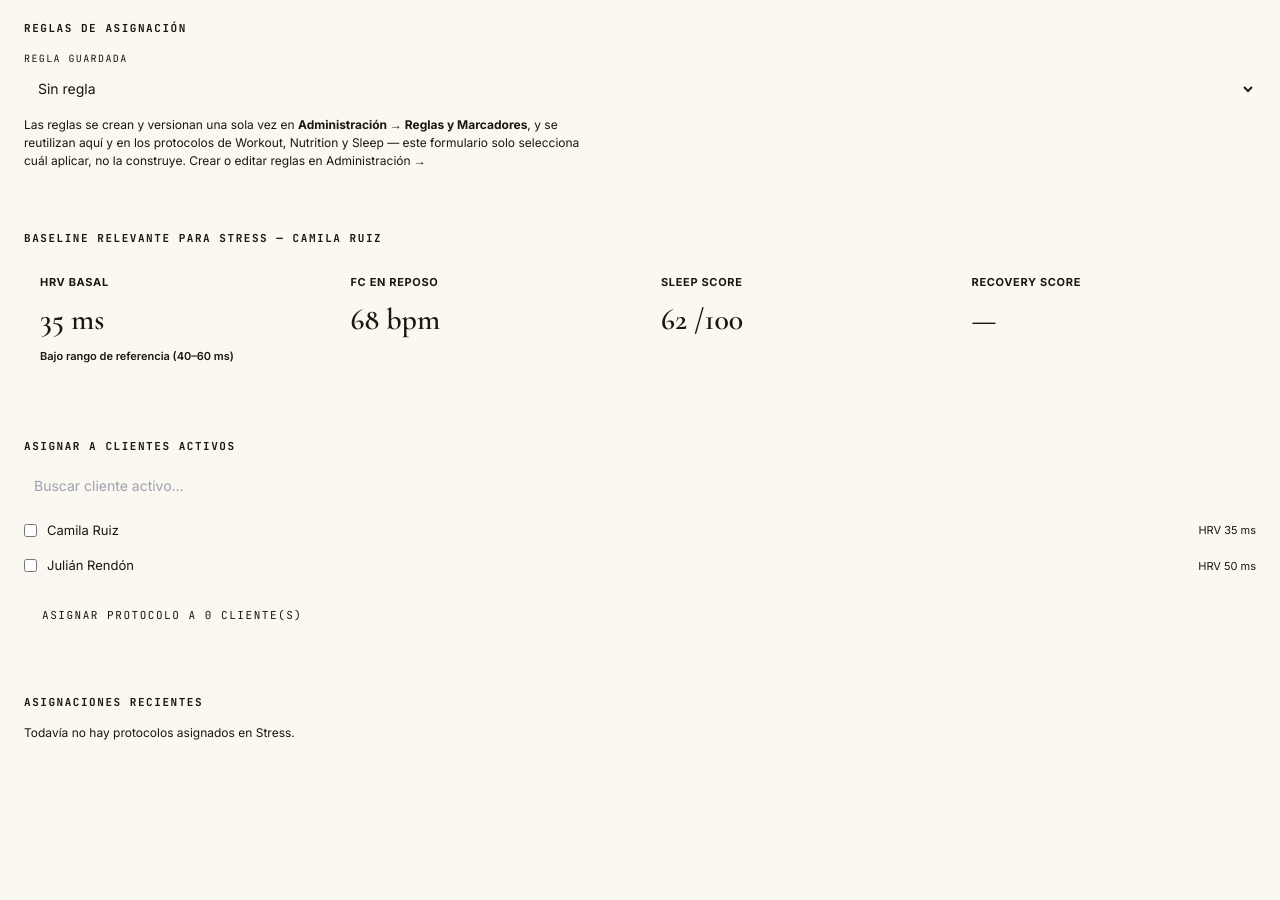
it: AdminStressProtocolCriteriaAndAssignment (Fase 4) › assigns the protocol to the checked clients, creating one labeled case per client
Click the checkbox labelled "Camila Ruiz HRV 35 ms".
click(30, 530)  # box x1=24 y1=524 x2=37 y2=537
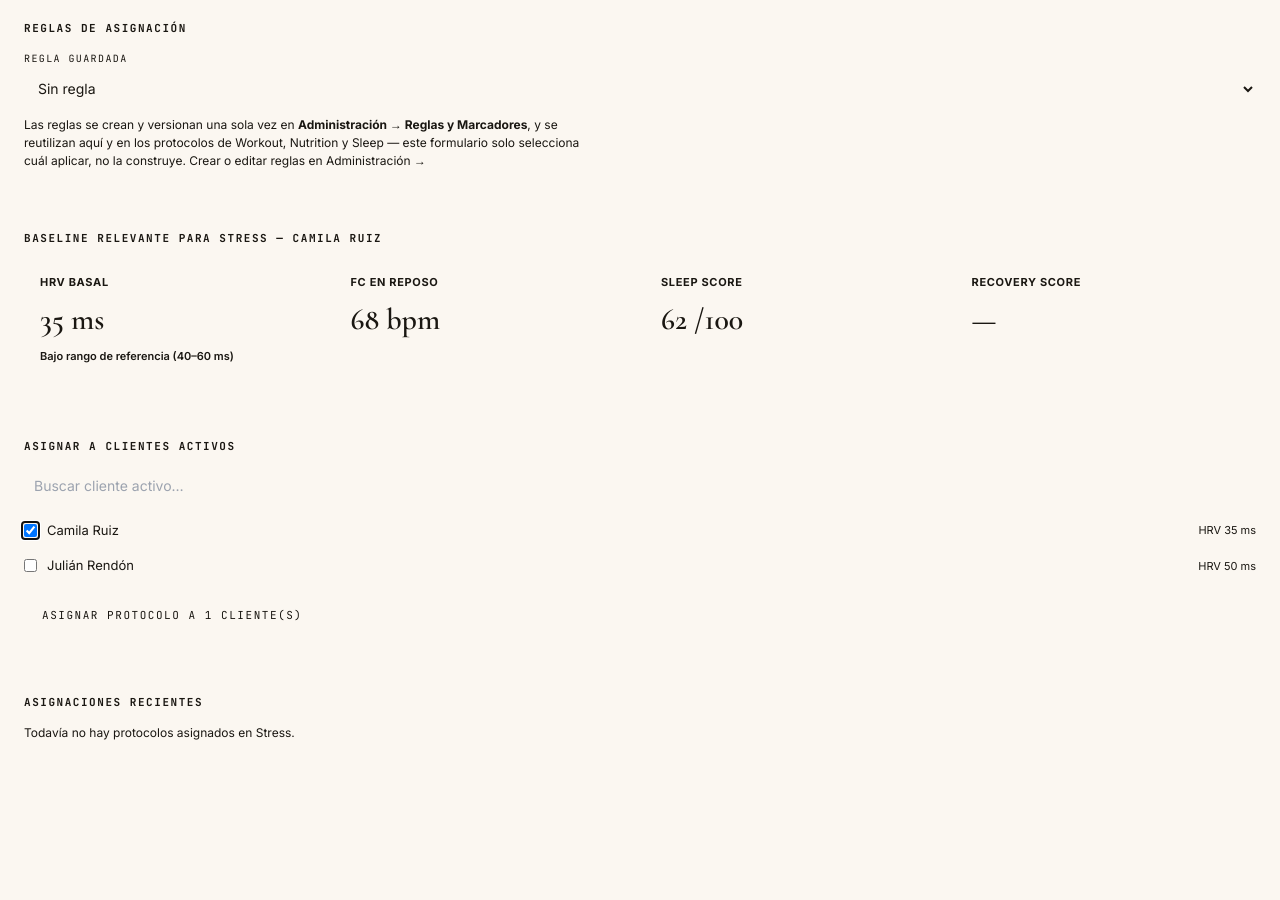
Click the button "Asignar protocolo a 1 cliente(s)".
click(172, 616)  # box x1=24 y1=598 x2=320 y2=634
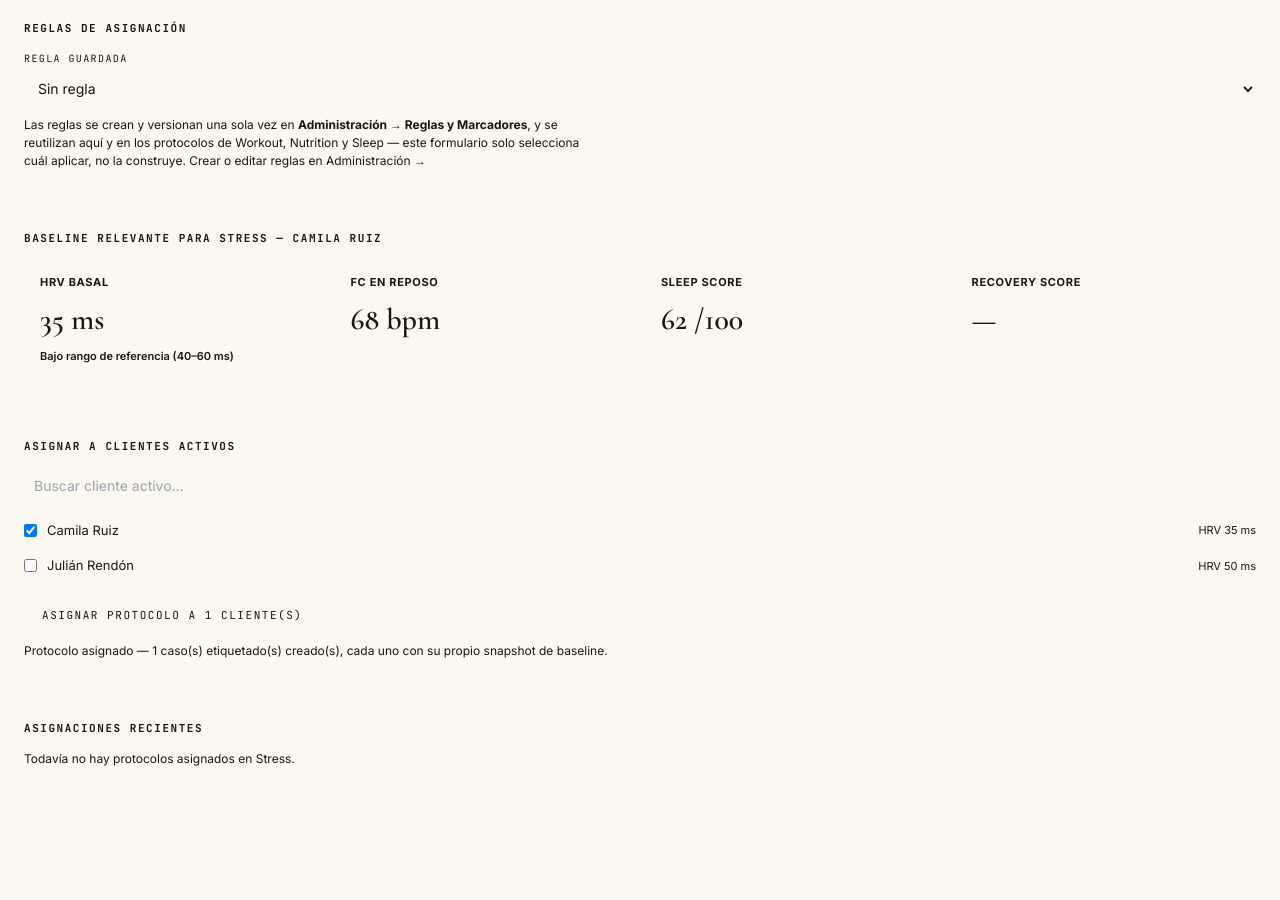
Expected: the text "1 caso(s) etiquetado(s) creado(s)" is shown, x1=24 y1=642 x2=608 y2=658
